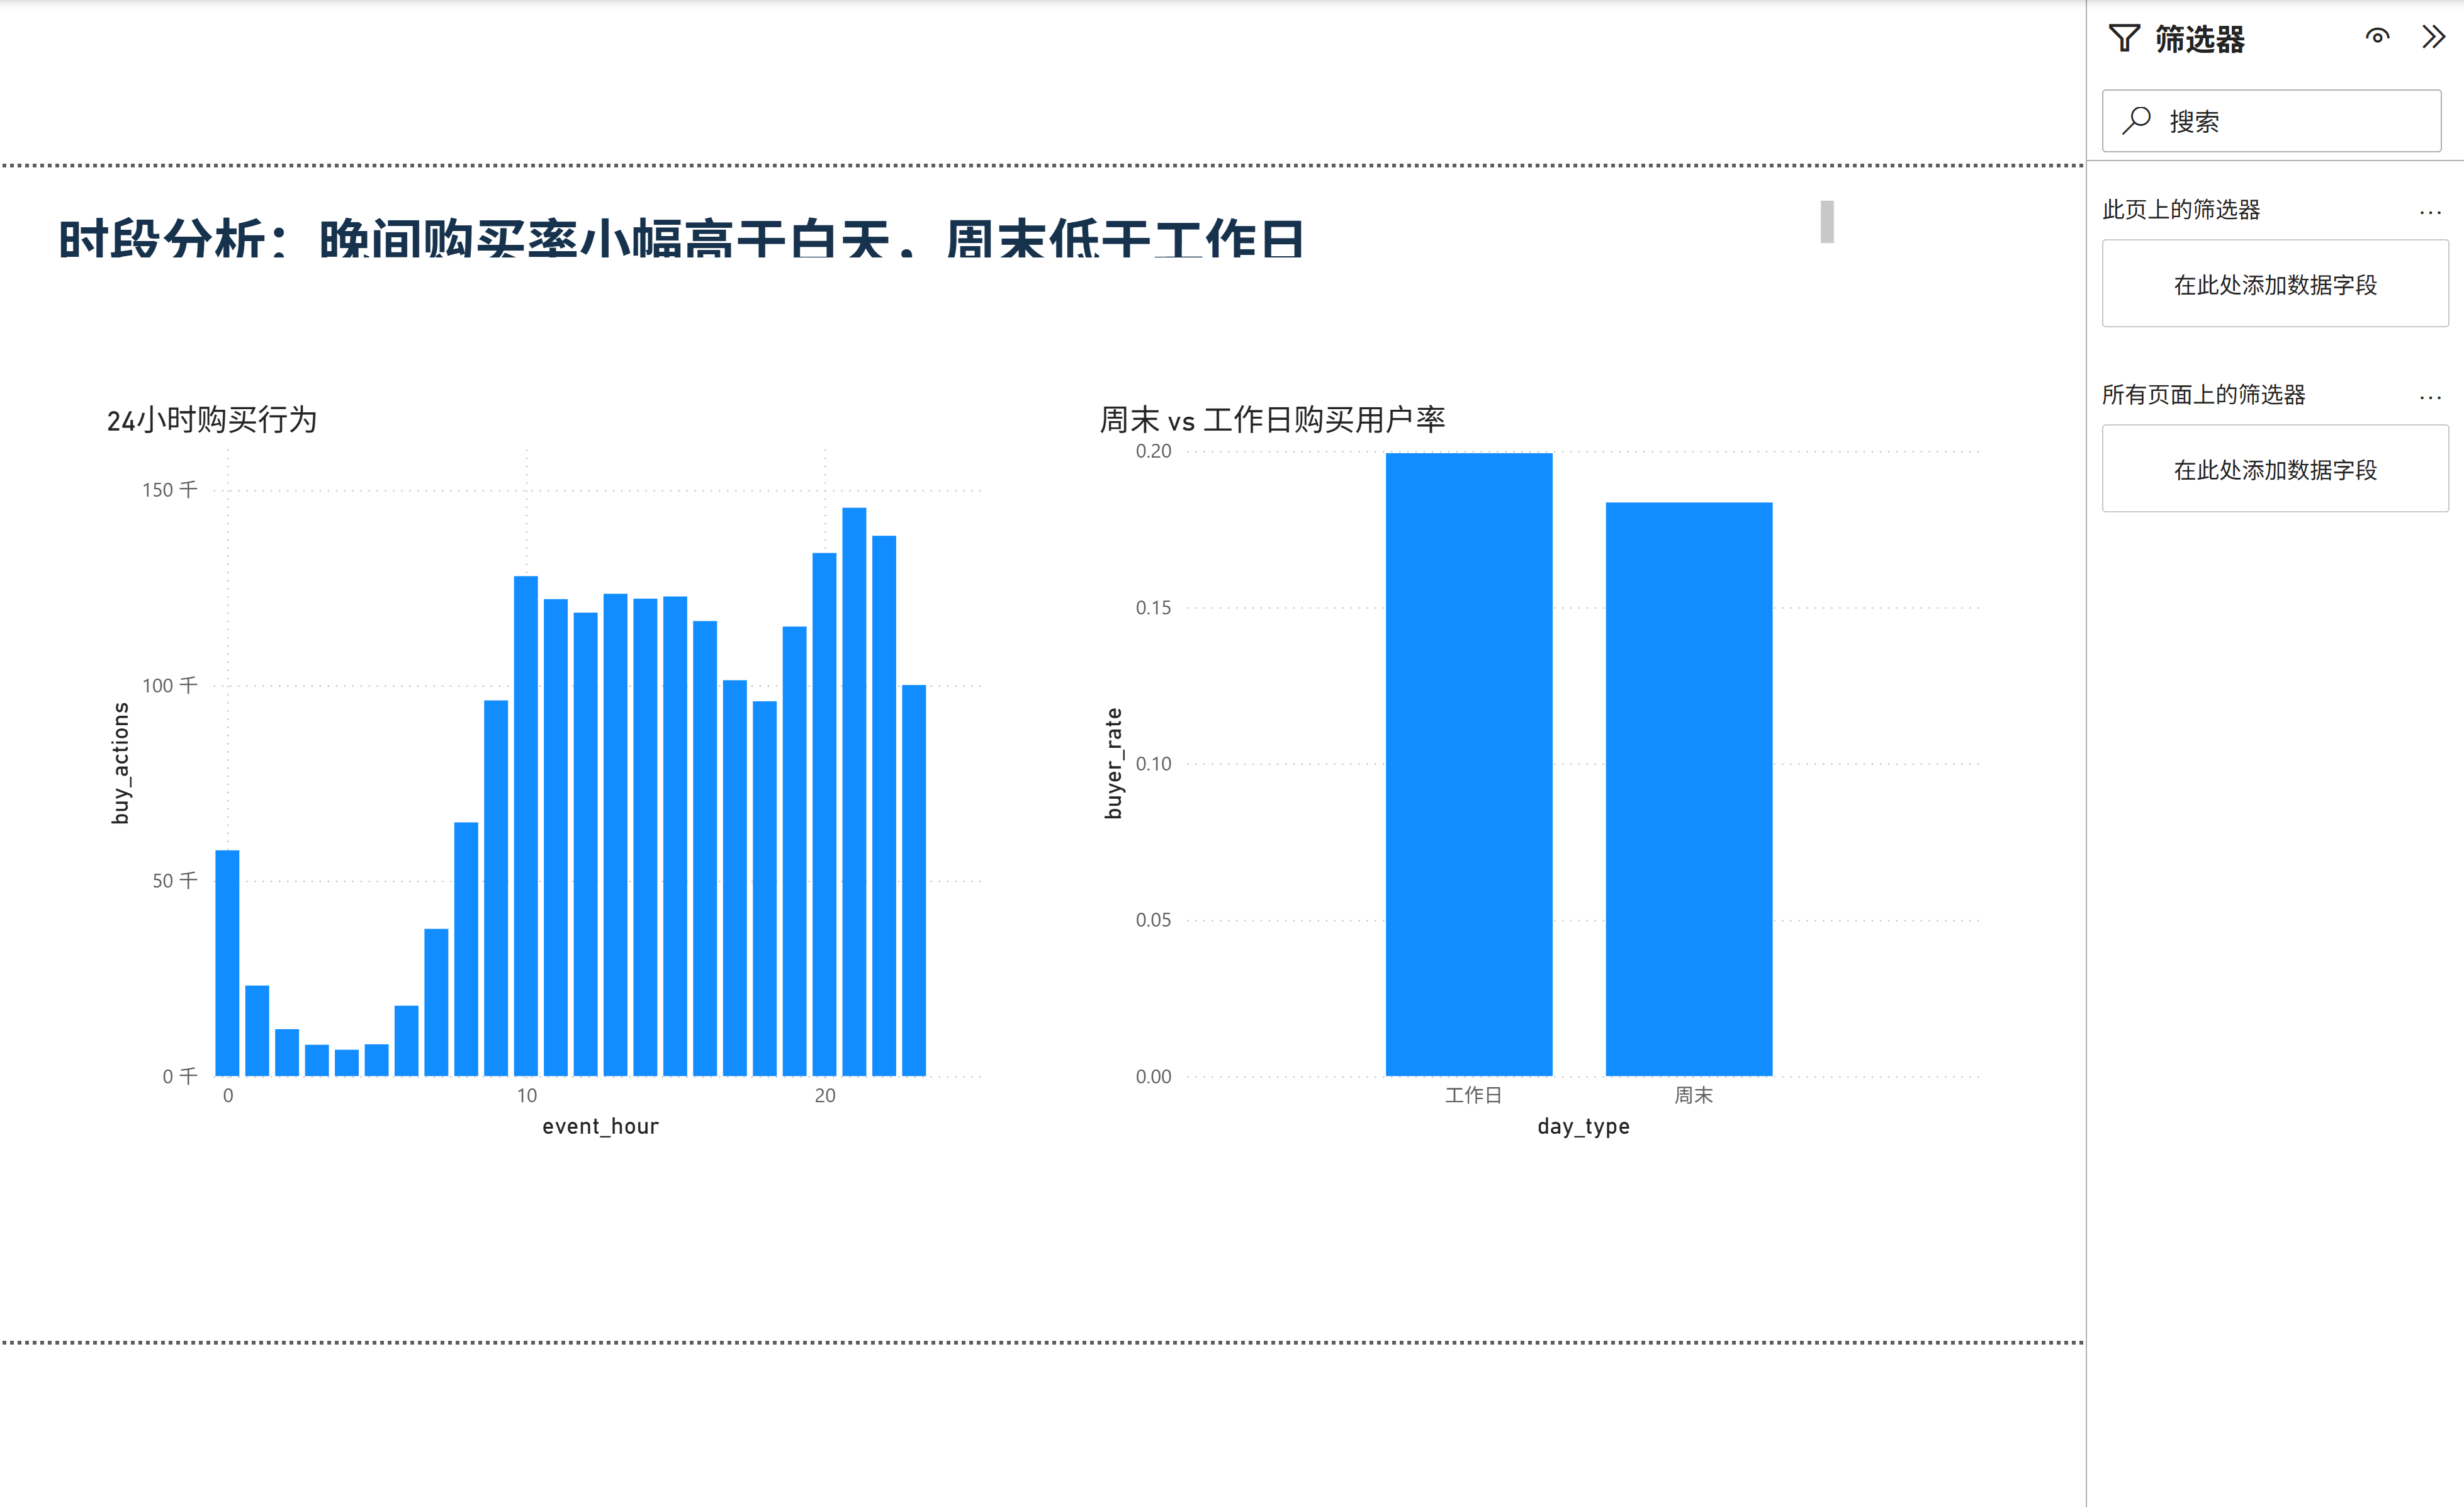

This screenshot's page, from the dashboard's own definition file:
{"tool":"powerbi","page":{"name":"品类与时段","canvas":[1280,720],"ordinal":3},"visuals":[{"type":"textbox","box":[30,15,1100,45],"z":1},{"type":"columnChart","title":"24小时购买行为","fields":{"Category":["HourlyMetrics.event_hour"],"Y":["Sum(HourlyMetrics.buy_actions)"]},"box":[60,140,550,460],"z":3},{"type":"columnChart","title":"周末 vs 工作日购买用户率","fields":{"Category":["TimeSegment.day_type"],"Y":["Sum(TimeSegment.buyer_rate)"]},"box":[670,140,550,460],"z":3}]}

Visuals, with their boxes on the page's 1280x720 design canvas (x1, y1, x2, y2). These are canvas units, not pixel positions in the 2464x1507 screenshot, which may show the page scaled, cropped or inside an application window:
textbox: 30, 15, 1130, 60
"24小时购买行为" columnChart: 60, 140, 610, 600
"周末 vs 工作日购买用户率" columnChart: 670, 140, 1220, 600
